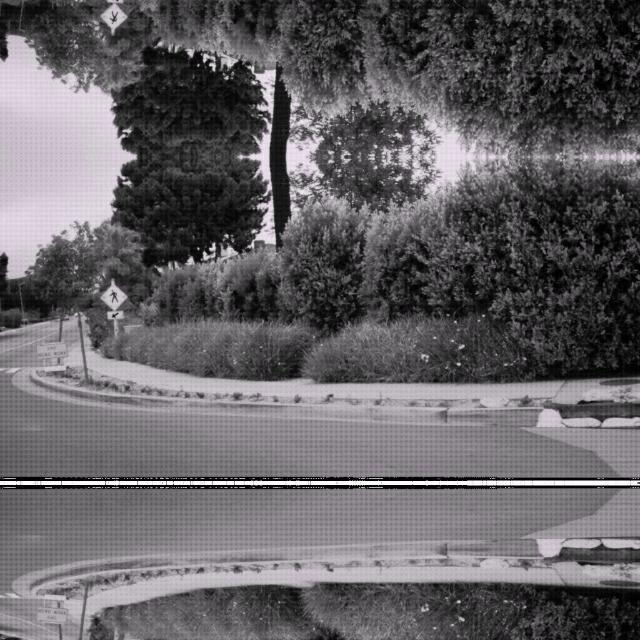pedestrianCrossing: (99, 280, 127, 310), (99, 2, 127, 32)
